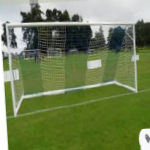goals: (5, 22, 140, 118)
